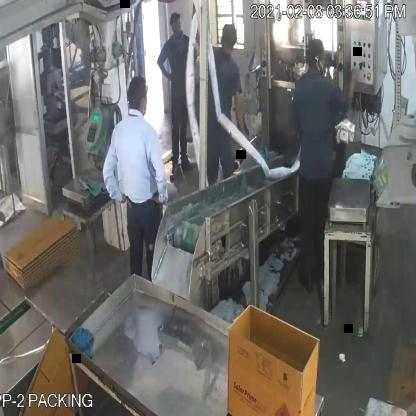no_glove: (99, 140, 127, 214), (147, 135, 171, 216), (233, 78, 249, 146), (155, 51, 176, 92)
